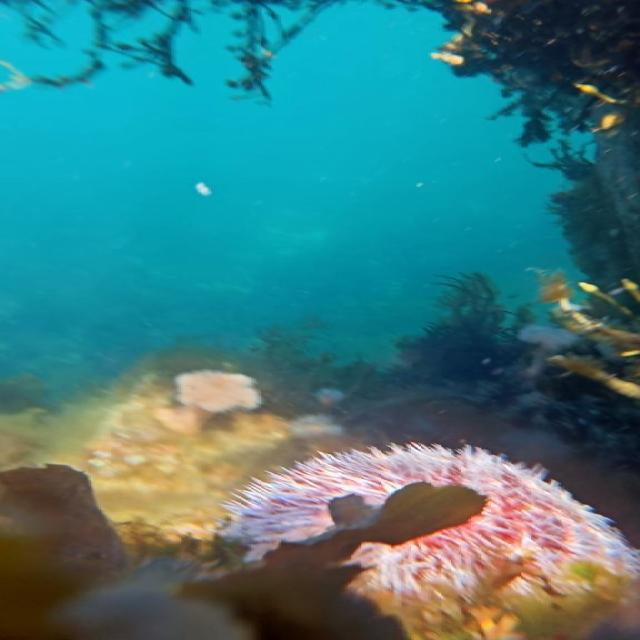Deniz Kestanesi: (209, 441, 640, 606)
